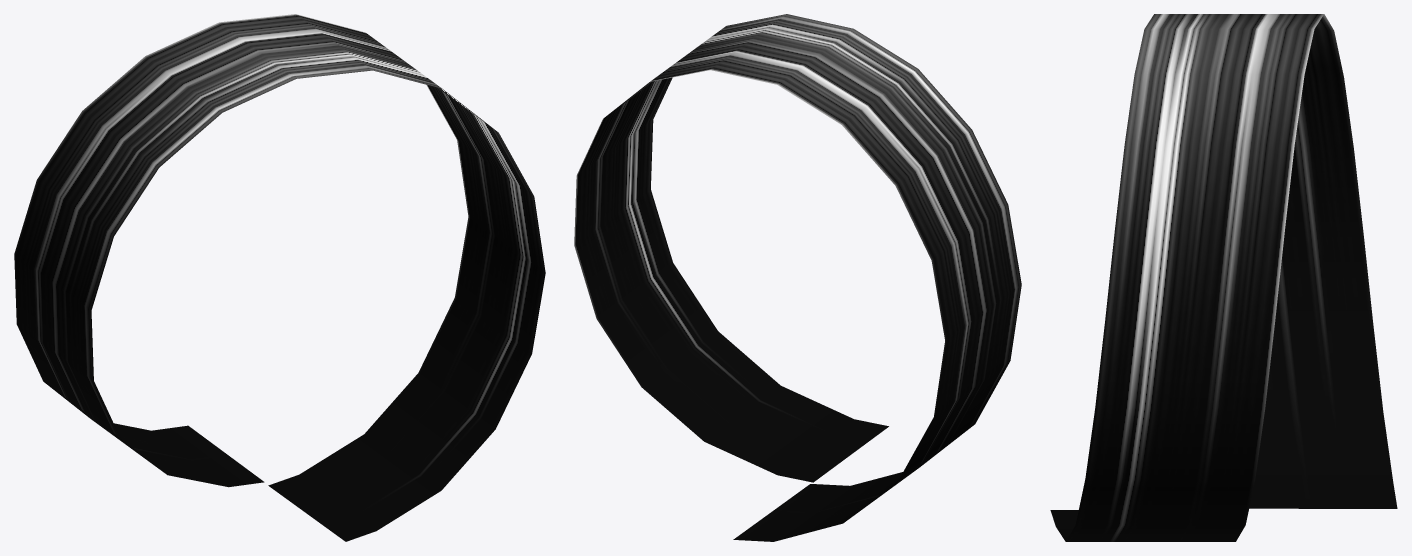
Rendered from particle_tornado01.fbx.
The picture shows the model from 3 angles, left to right: view 1: azimuth 30°, elevation 25°; view 2: azimuth 150°, elevation 25°; view 3: azimuth 270°, elevation 25°; orthographic projection. The views are drawn at different scales.
Parts seen in each view (by area): view 1: particle_tornade; view 2: particle_tornade; view 3: particle_tornade.
Boxes of the visible parts, box(x1,y1,x2,y2) form: particle_tornade: box(14, 14, 545, 541); particle_tornade: box(574, 14, 1021, 541); particle_tornade: box(1050, 14, 1397, 541).
Size of the model in its own units: 198 by 198 by 130.
